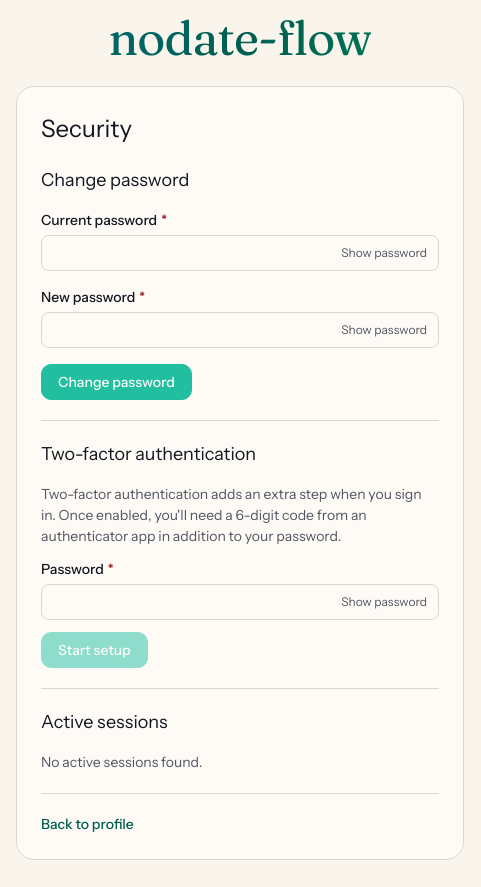
Test: two-factor enrollment re-authentication › names the password, not the code, when the password is the part that was wrong
In the password field labelled "Password*": (240,602) 41,584 -> 439,620, type "wrong-password"
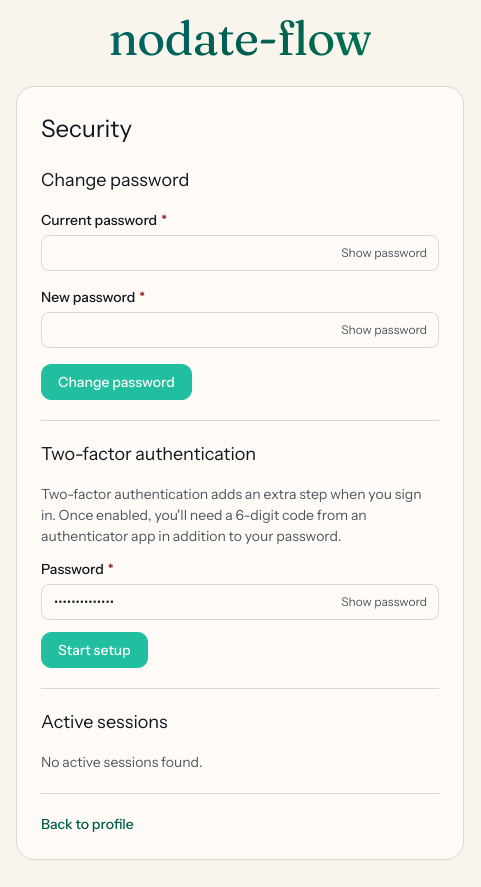
Click the button "Start setup": (94,650) 41,632 -> 148,668
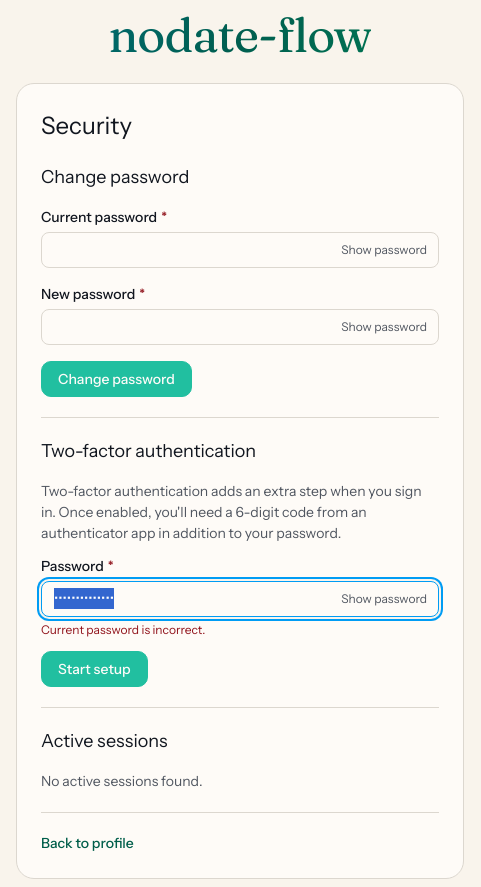
Check: the text "Current password is incorrect." is shown, box 41,622 -> 205,637
